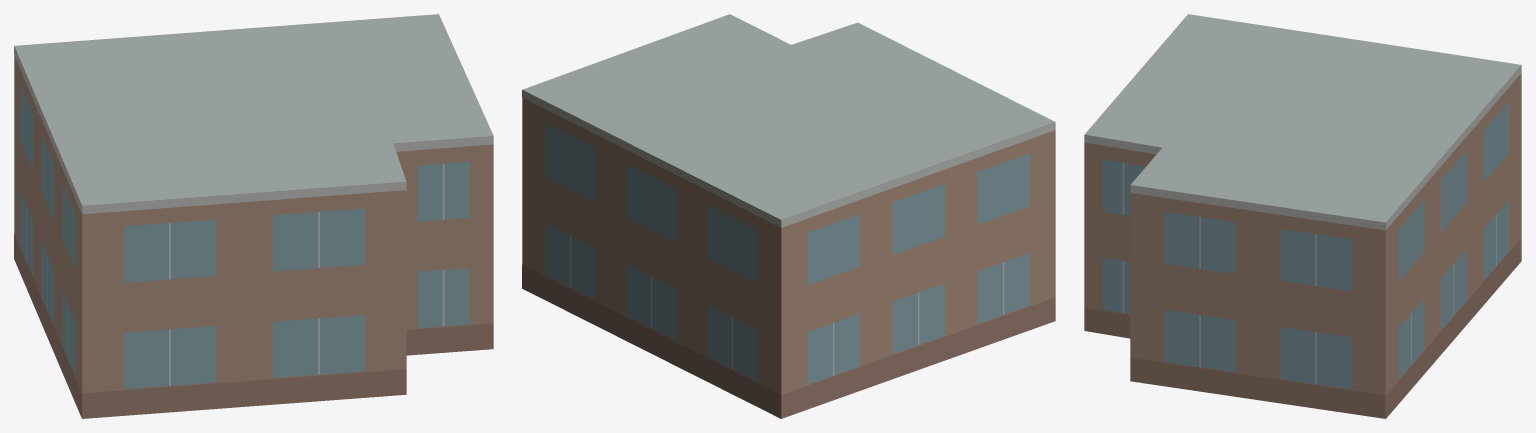
Rendered from survey-upis-32712689.glb.
The picture shows the model from 3 angles, left to right: view 1: azimuth 30°, elevation 25°; view 2: azimuth 150°, elevation 25°; view 3: azimuth 270°, elevation 25°; orthographic projection. The views are drawn at different scales.
Parts seen in each view (by area): view 1: survey-upis-32712689.tmp; view 2: survey-upis-32712689.tmp; view 3: survey-upis-32712689.tmp.
Boxes of the visible parts, x1,y1,x2,y2 form: survey-upis-32712689.tmp: (14, 14, 493, 418); survey-upis-32712689.tmp: (522, 14, 1055, 418); survey-upis-32712689.tmp: (1084, 14, 1521, 418).
Bounding box in the file's own units: 13.91 × 6.1 × 12.32.
